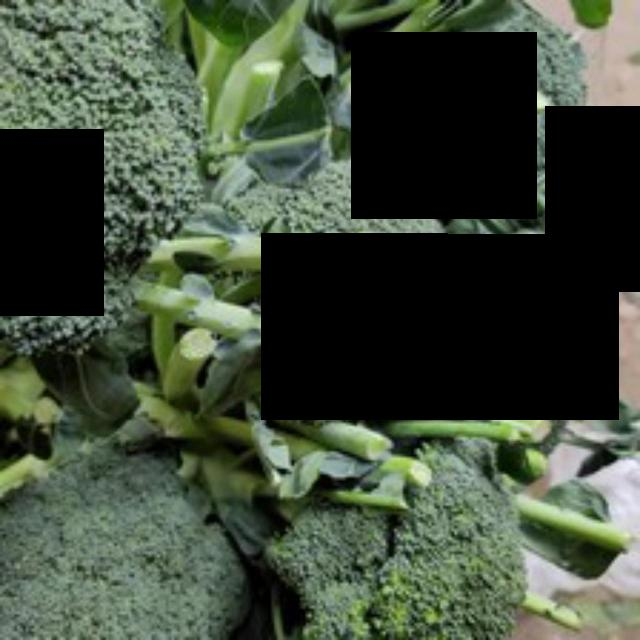broccoli: (0, 431, 291, 637)
